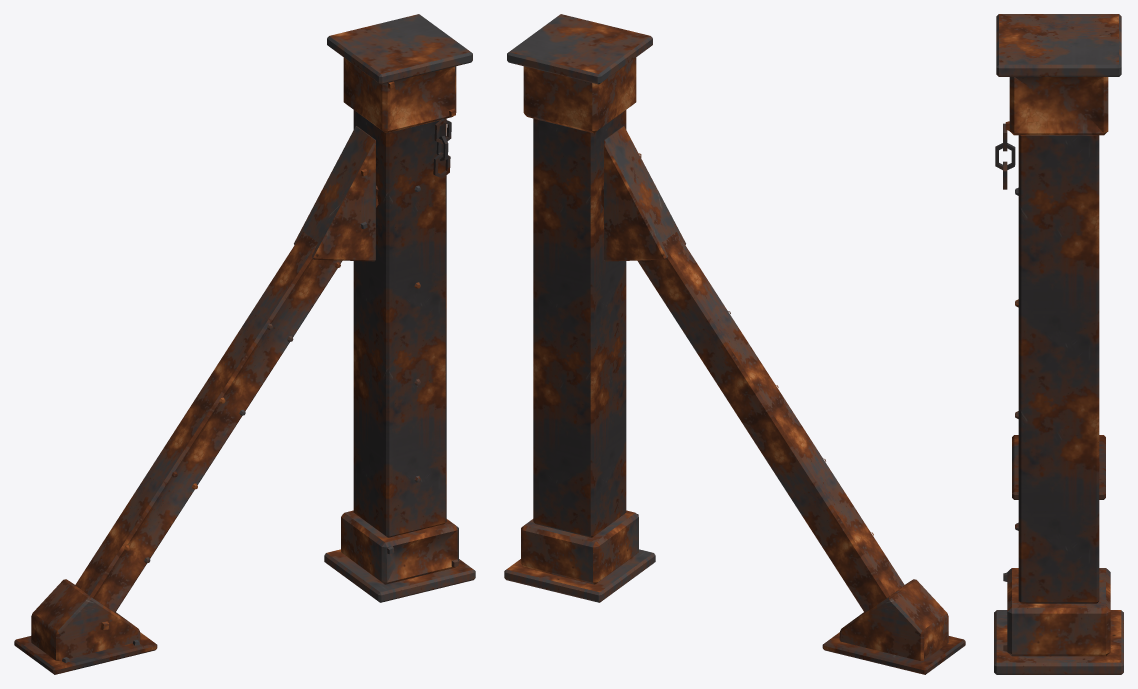
File: Support_Diagonal.glb
The picture shows the model from 3 angles, left to right: view 1: azimuth 30°, elevation 25°; view 2: azimuth 150°, elevation 25°; view 3: azimuth 270°, elevation 25°; orthographic projection. The views are drawn at different scales.
Parts seen in each view (by area): view 1: Support_Diagonal; view 2: Support_Diagonal; view 3: Support_Diagonal.
Part boxes in pixels (box(x1,y1,x2,y2)): Support_Diagonal: box(14, 14, 475, 674); Support_Diagonal: box(504, 14, 965, 674); Support_Diagonal: box(994, 14, 1123, 674).
Size of the model in its own units: 2.47 by 3 by 0.58.
Materials: 2 (2 with a texture image).
